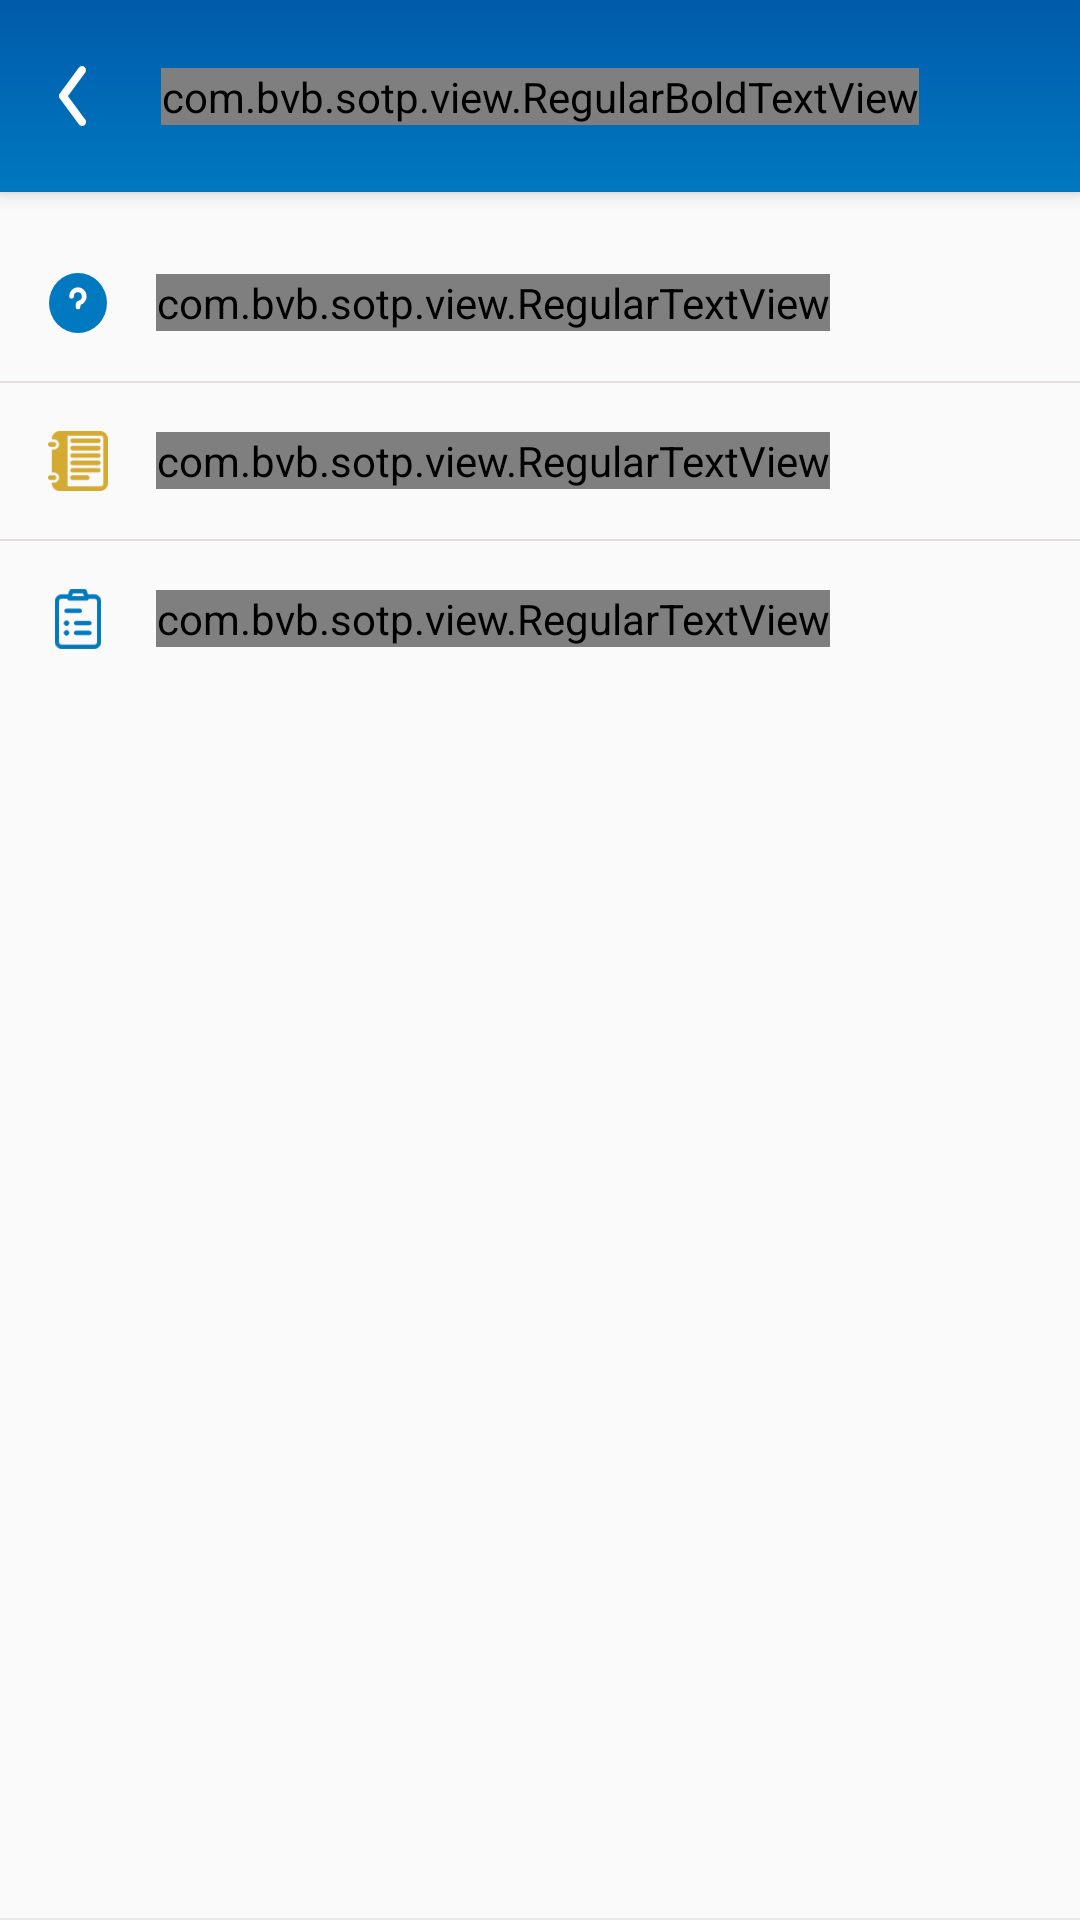

Locate icon controls on the screen. Image size 1080w x 1920h, boxes as BBox(x1, y1, x2, y2).
faq: BBox(49, 273, 107, 333)
guide line: BBox(48, 431, 108, 491)
policy: BBox(55, 589, 101, 649)
